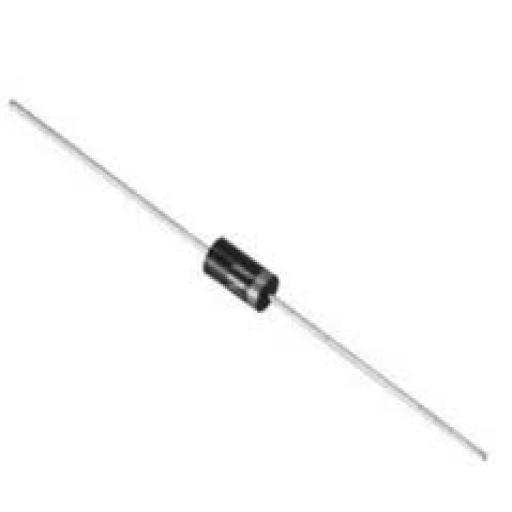DIODE: (6, 95, 488, 461)
